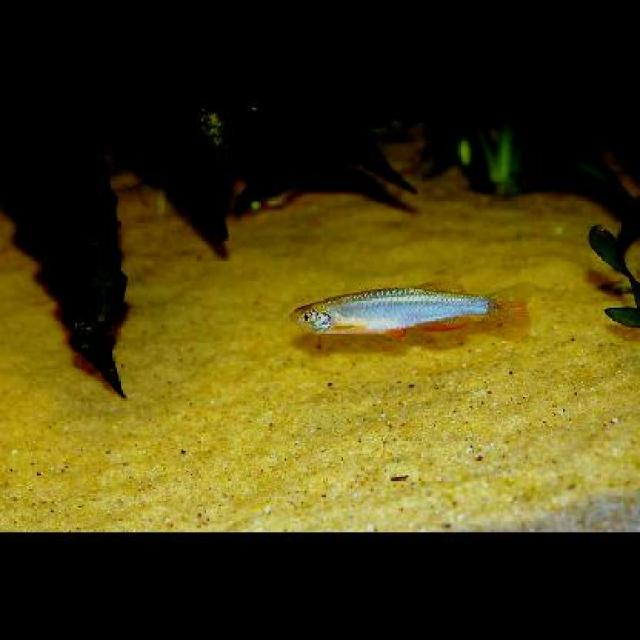ZebraFish: (288, 274, 537, 338)
